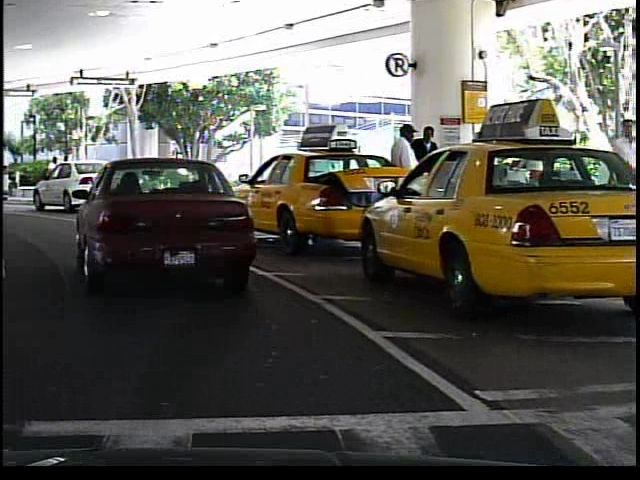person: (599, 115, 636, 240), (384, 122, 423, 239), (410, 121, 443, 231), (41, 152, 65, 196)
